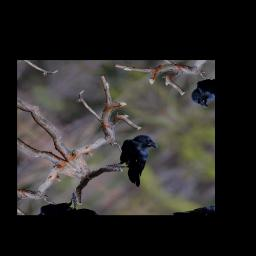Crow: (100, 128, 177, 189)
